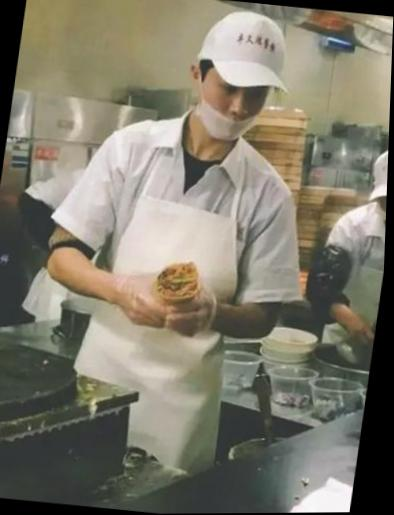WRONG: (192, 74, 266, 144)
